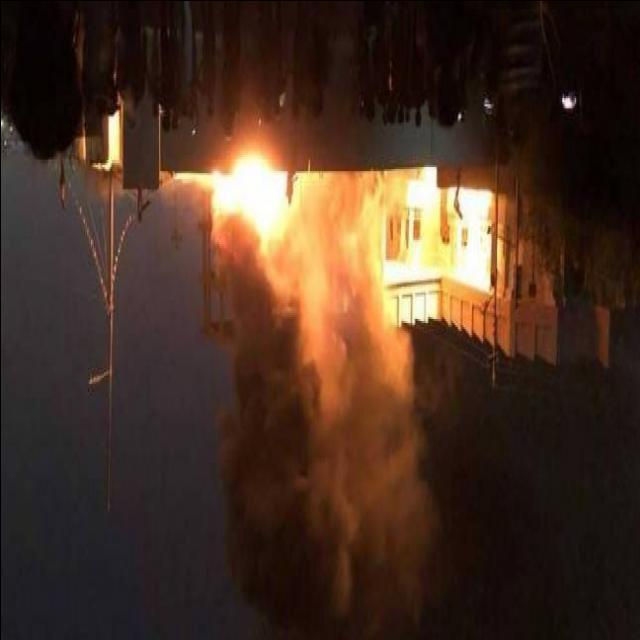Fire: (162, 157, 494, 370)
